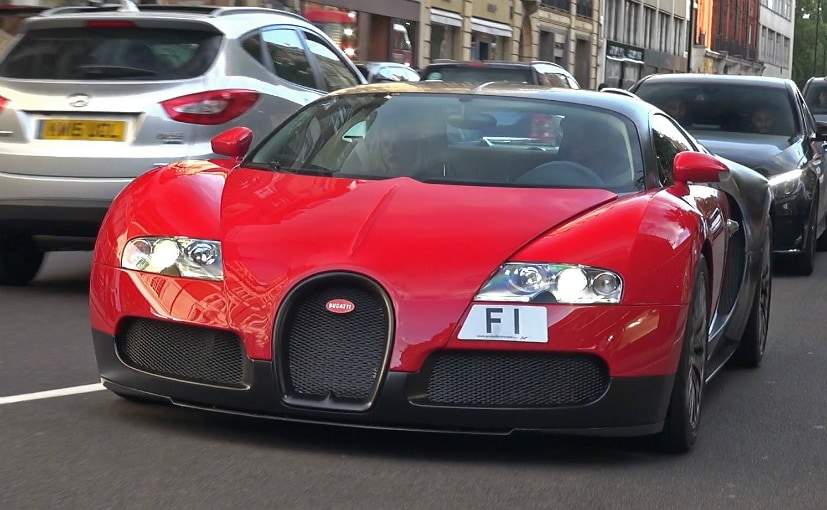number_plate: (454, 298, 553, 344)
